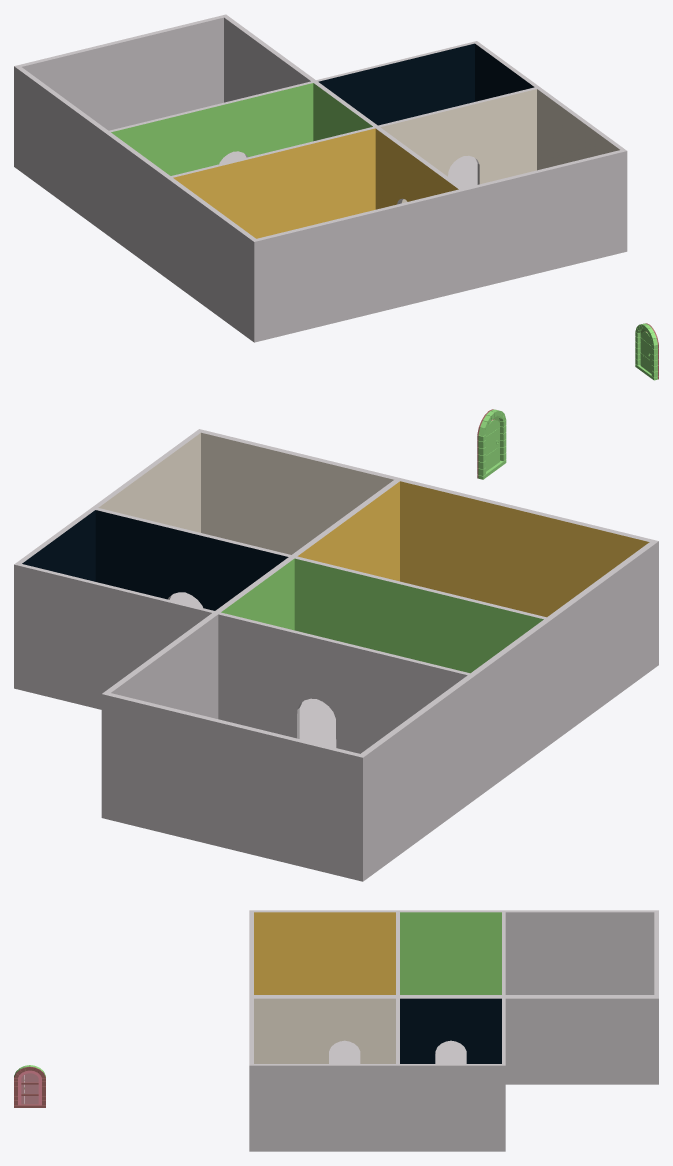
Rendered from 3d-room-c.glb.
3 renders of one model, top to bottom at view 1: azimuth 30°, elevation 25°; view 2: azimuth 150°, elevation 25°; view 3: azimuth 270°, elevation 25°, orthographic. The views are drawn at different scales.
Parts seen in each view (by area): view 1: Building, Parent_frame; view 2: Building, Parent_frame; view 3: Building, Door, Parent_frame.
Part boxes in pixels (x1,y1,x2,y2): Building: (14,14,627,342); Parent_frame: (635,323,658,380); Building: (14,429,658,881); Parent_frame: (477,409,506,479); Building: (249,910,658,1151); Door: (21,1073,38,1104); Parent_frame: (14,1065,45,1107).
Bounding box in the file's own units: 22.87 × 5.94 × 40.15.
